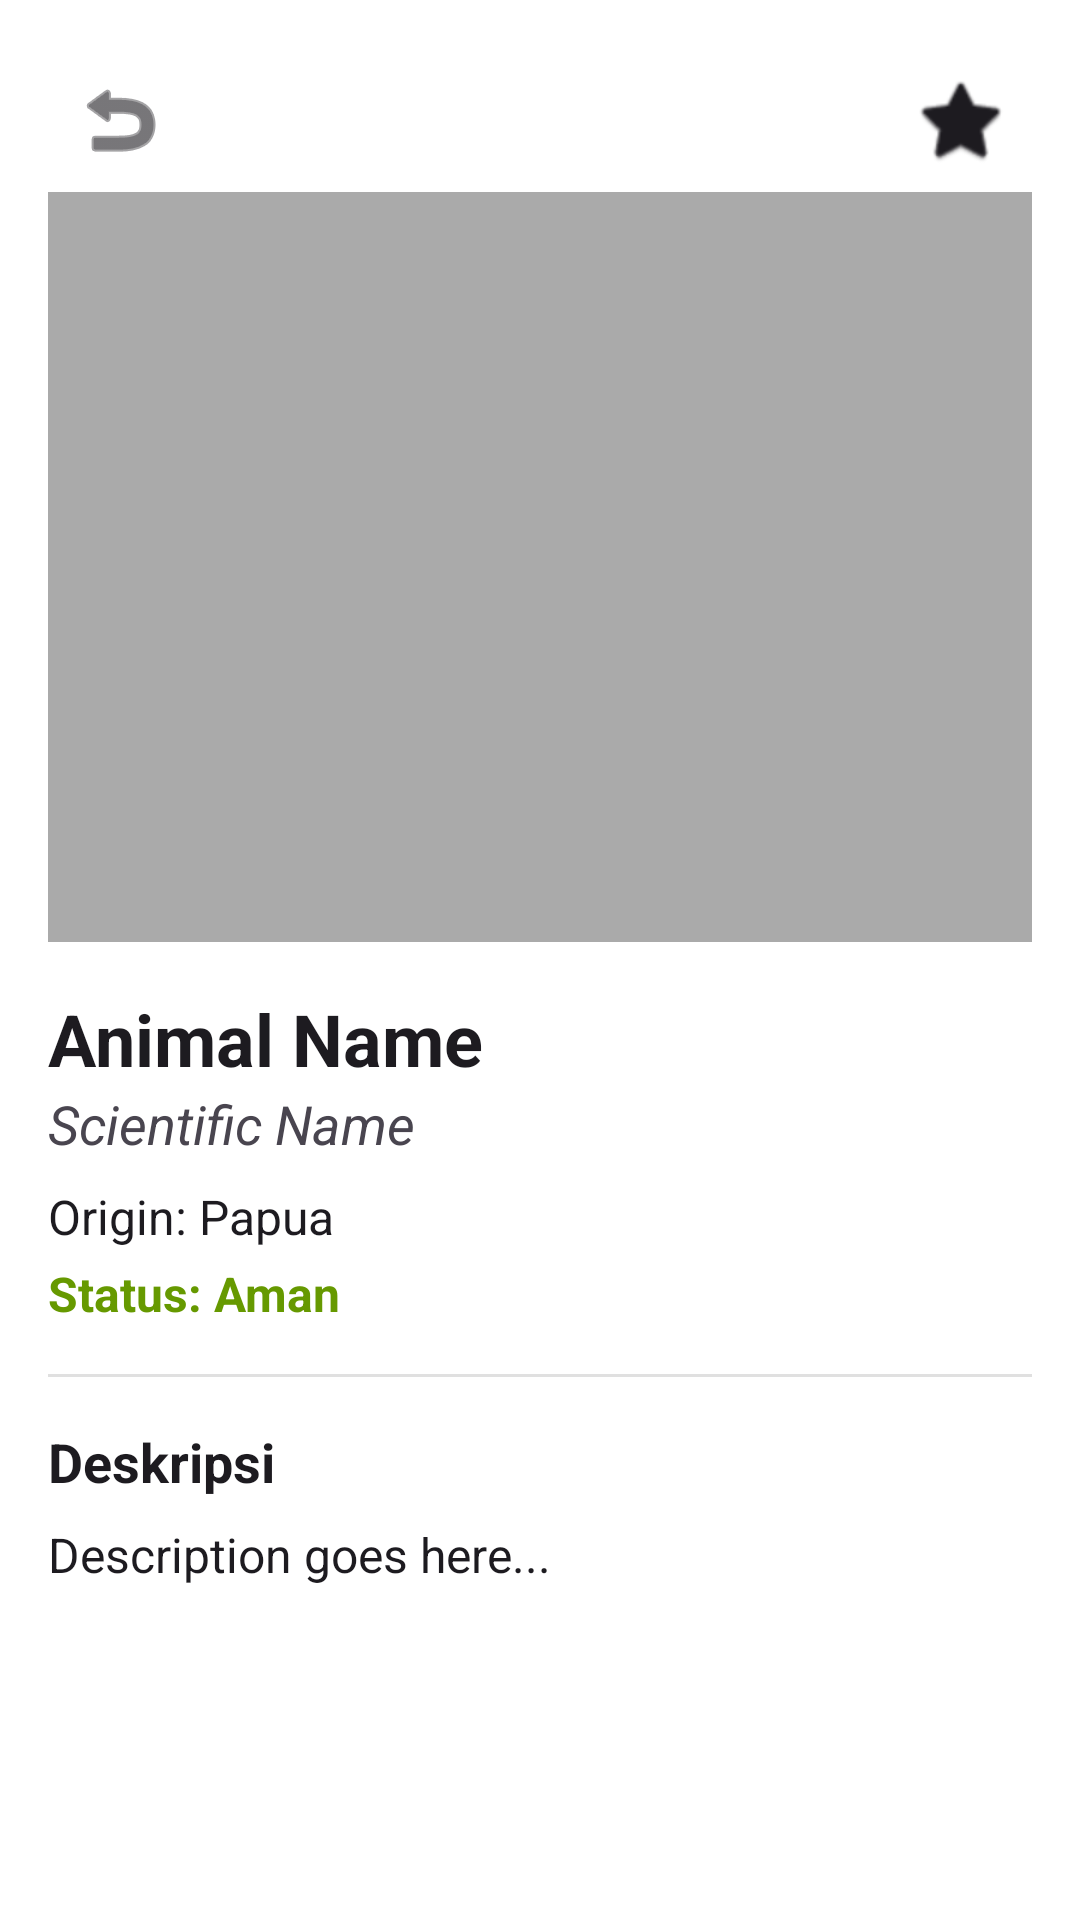

Screen size 1080px×1920px. Icon name, then its center in pixels as [x,y]:
revert: [121,120]
star: [961,121]
